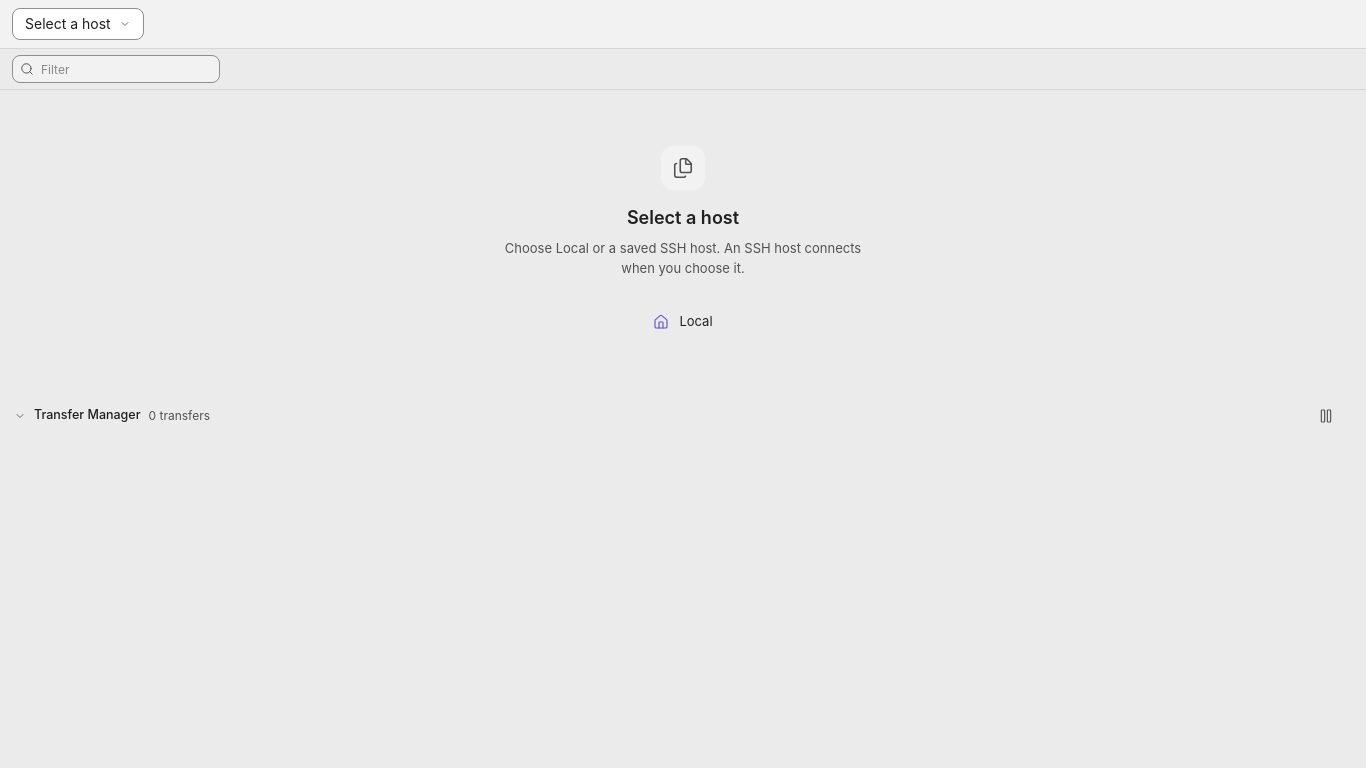
Test case: SFTPPanel uploads › filters the current directory without clearing hidden selections
Step 1. Click the button "Select a host" → click(78, 24), box x1=12 y1=8 x2=144 y2=40
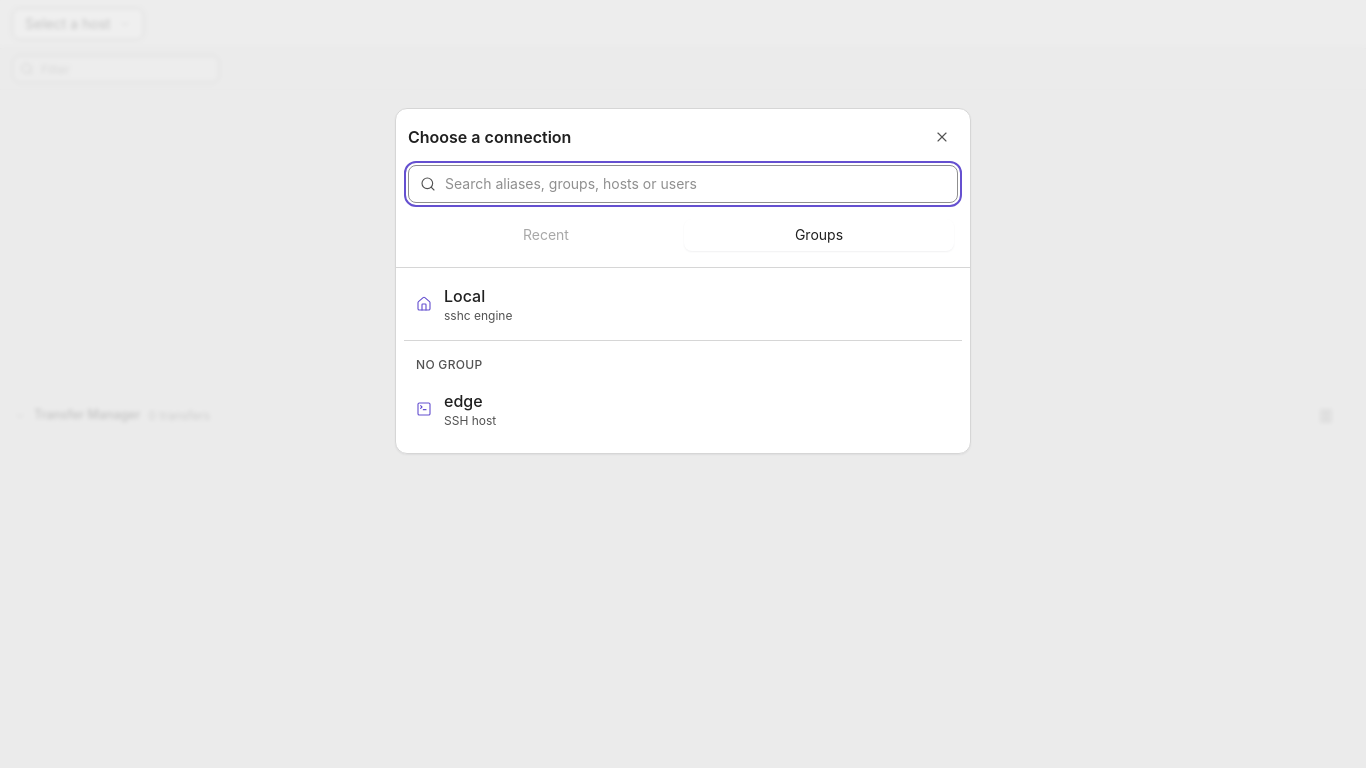
Step 2. Click the button "edge SSH host" → click(463, 401), box x1=404 y1=380 x2=962 y2=436
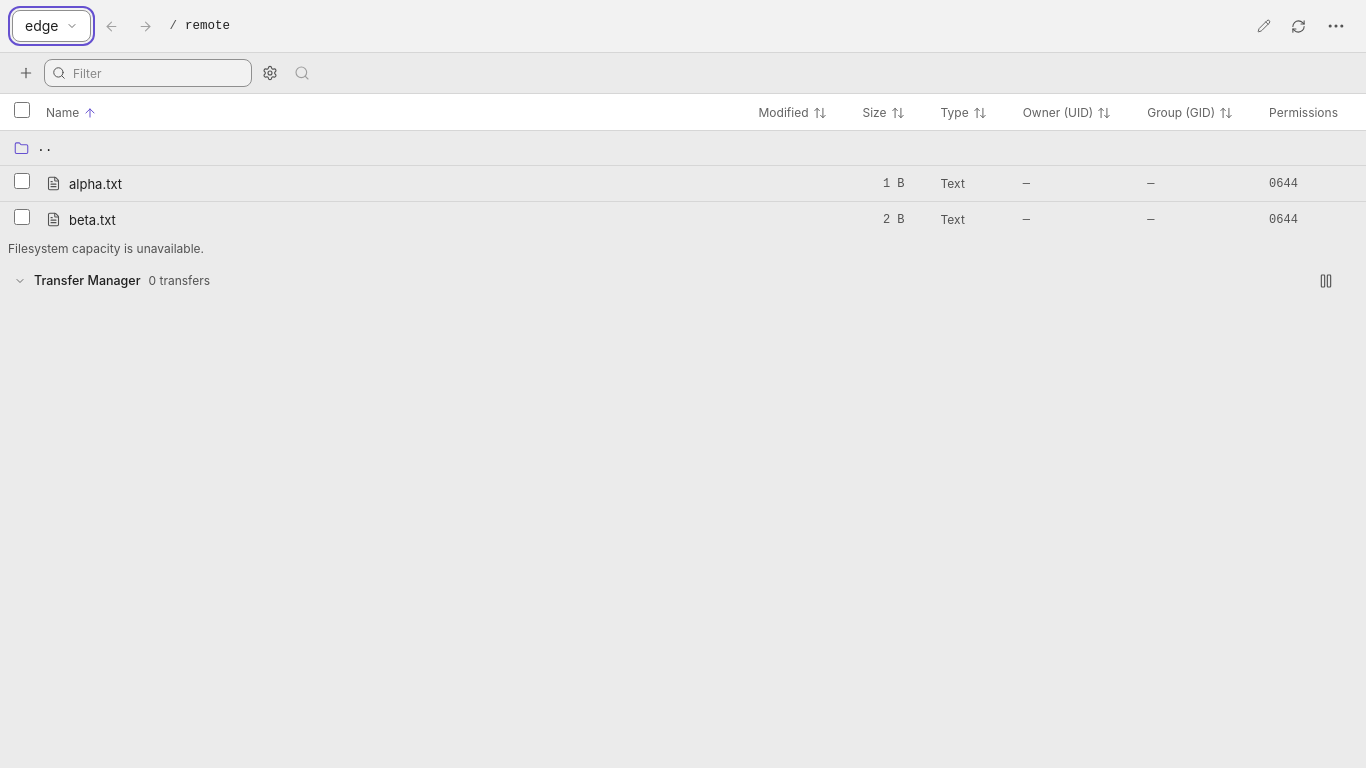
expect the button "alpha.txt" is shown: met, box x1=46 y1=174 x2=742 y2=194
Step 3. Type "alpha" into the search field named "Filter entries" → (148, 73), box x1=44 y1=59 x2=252 y2=87
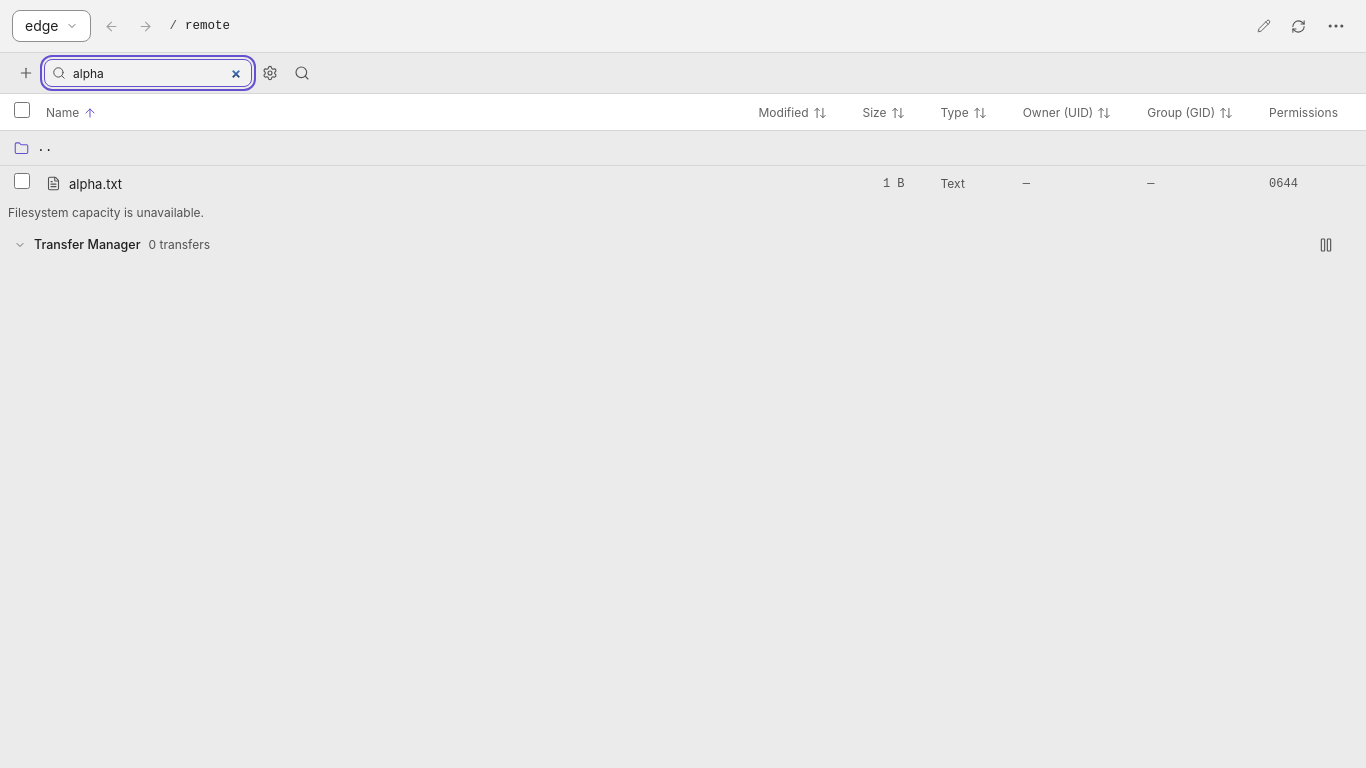
expect the button "alpha.txt" is shown: met, box x1=46 y1=174 x2=742 y2=194
expect the button "beta.txt" is gone: met
Step 4. Click the checkbox named "Select all entries" → click(22, 110), box x1=14 y1=102 x2=30 y2=118
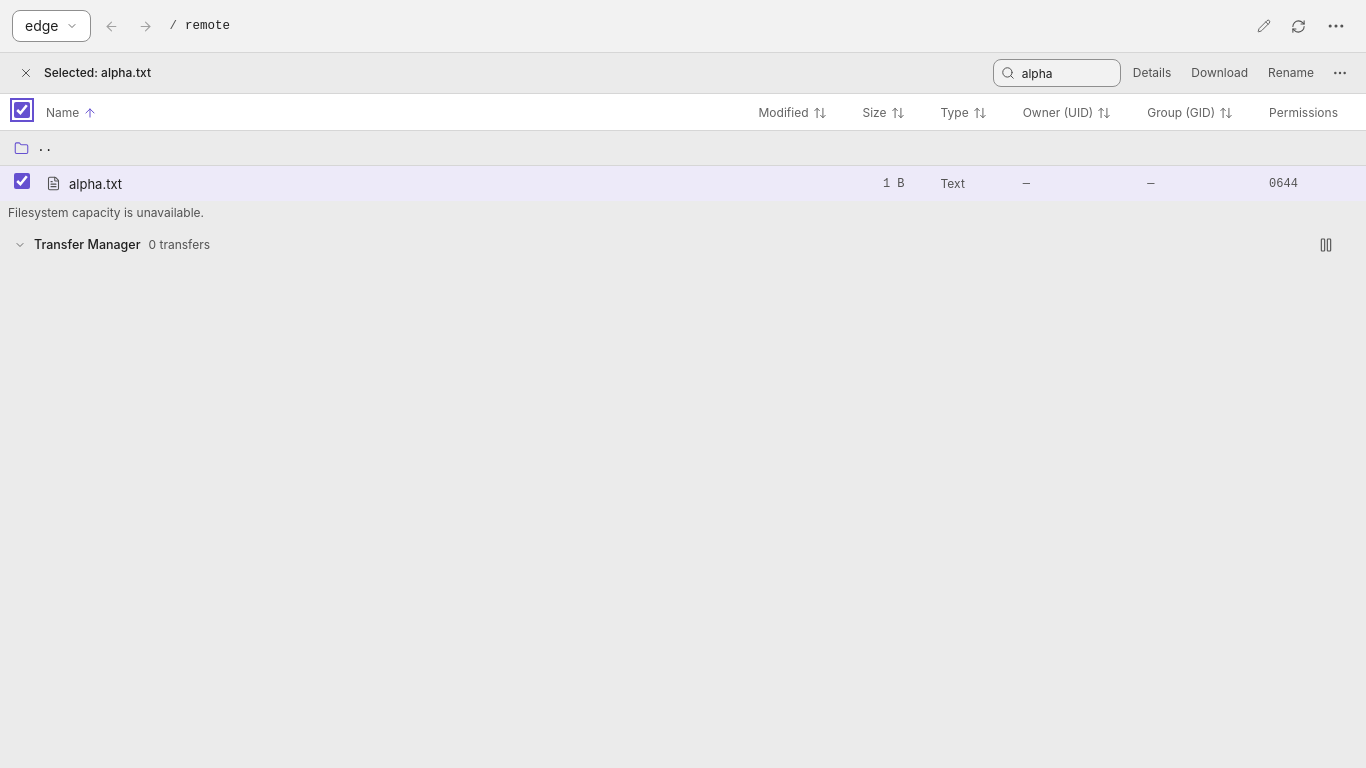
Step 5. Clear the search field named "Filter entries" → (1057, 73), box x1=993 y1=59 x2=1121 y2=87
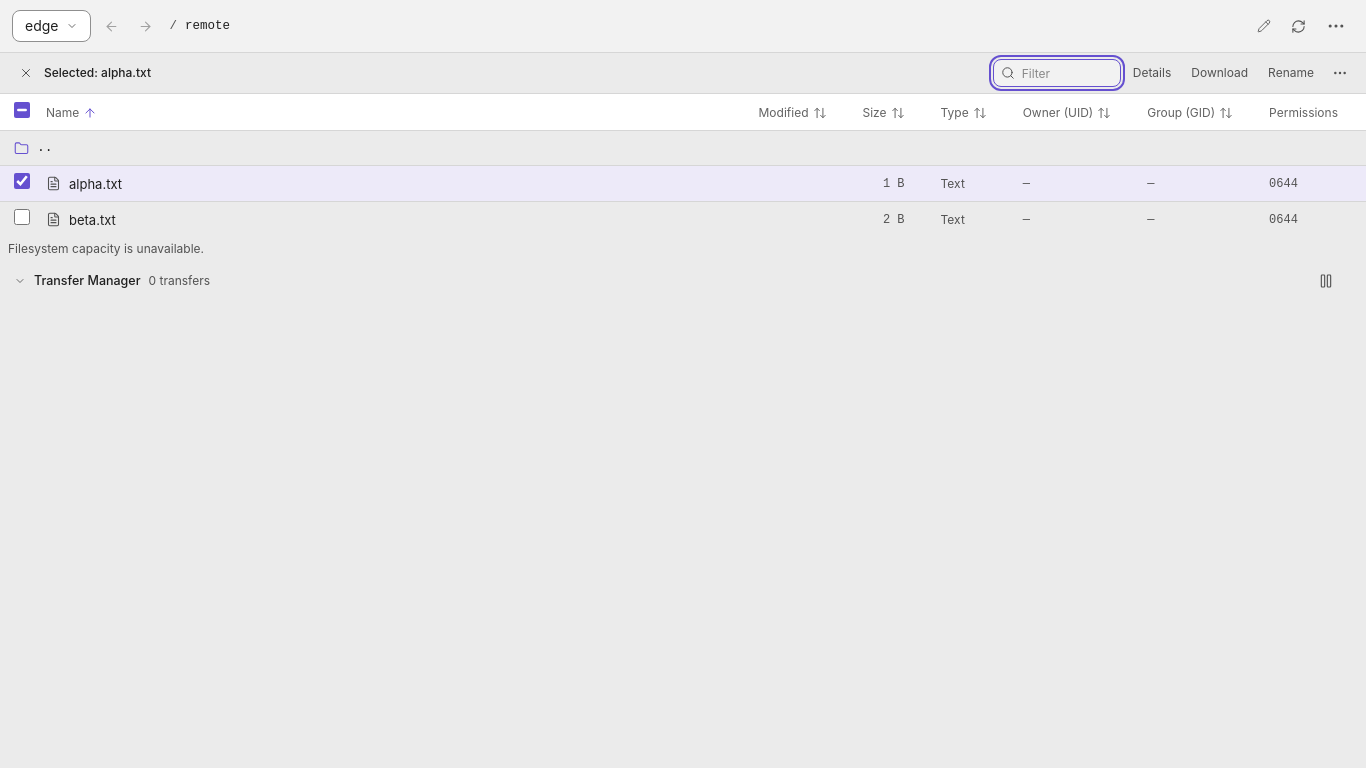
expect the checkbox named "Select alpha.txt" is checked: met, box x1=14 y1=173 x2=30 y2=189
expect the checkbox named "Select beta.txt" is not checked: met, box x1=14 y1=209 x2=30 y2=225
